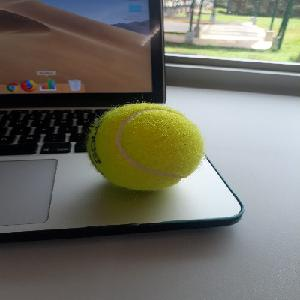Ball: (85, 98, 204, 191)
